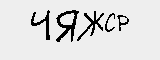Ж: (83, 7, 105, 37)
Р: (115, 12, 131, 35)
С: (103, 10, 117, 34)
Ч: (31, 7, 54, 42)
Я: (55, 7, 76, 41)
